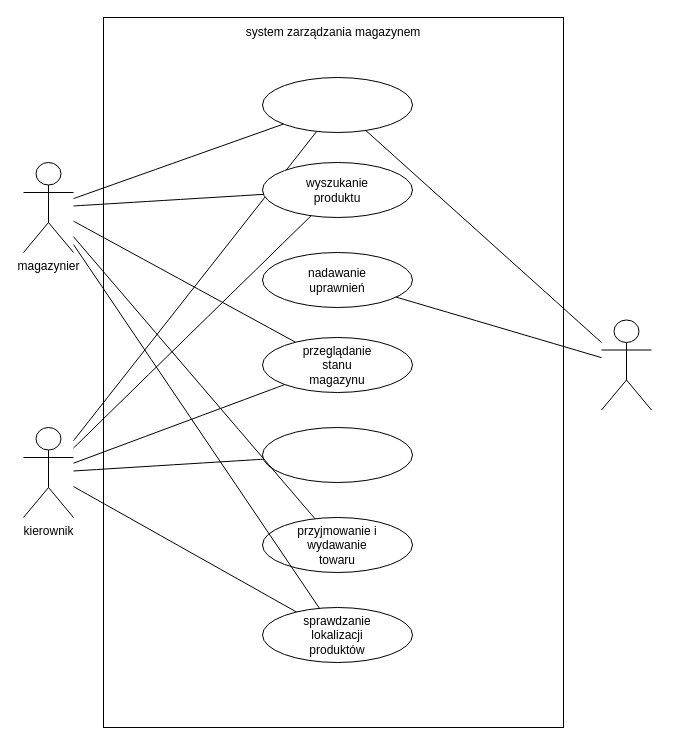
Image size: 678x745. Some labels were removed from this diagram. The shapes that lost their labels are listed below. From the top down, each one's centre as x and y in pixels, then its label:
At point (337, 104): "zalogowanie się".
At point (626, 364): "administrator".
At point (337, 454): "przeglądanie historii operacji".
